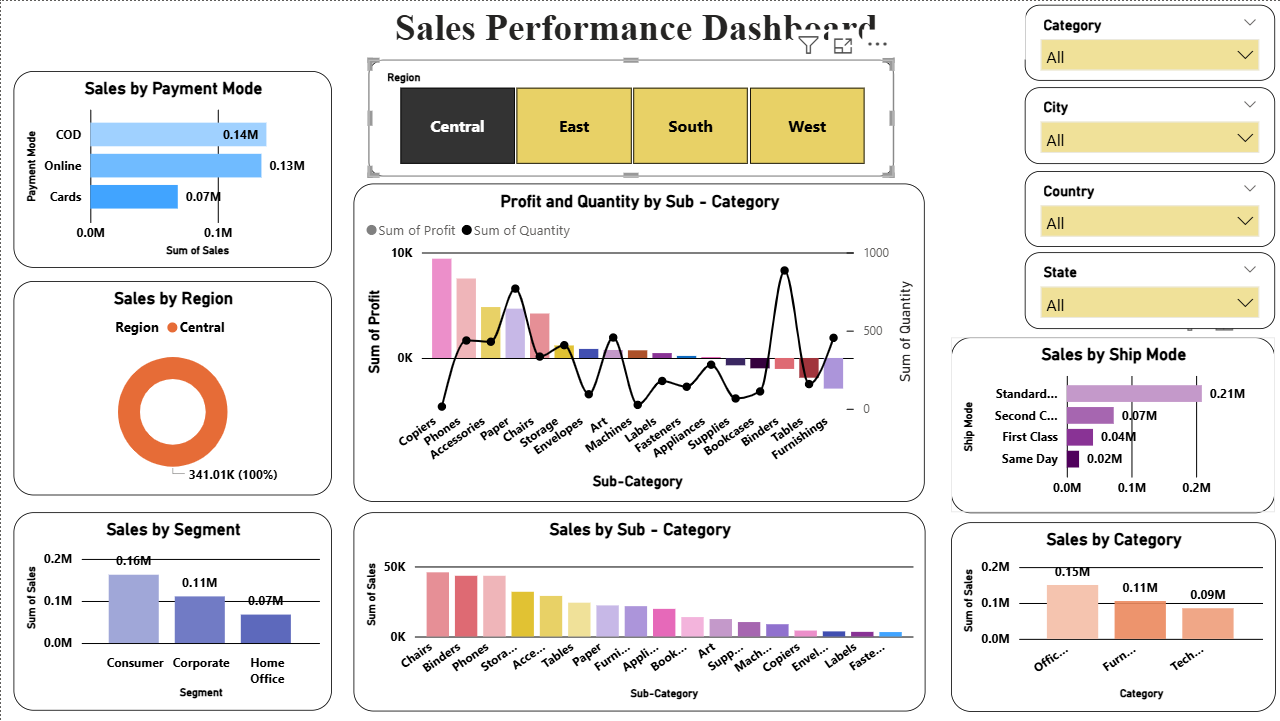

What the dashboard file says about the page in this screenshot:
{"tool":"powerbi","page":{"name":"Page 1","canvas":[1280,720],"ordinal":0},"visuals":[{"type":"barChart","title":"Sales by Payment Mode","fields":{"Y":["Sum(SuperStore_Sales_Dataset.Sales)"],"Category":["SuperStore_Sales_Dataset.Payment Mode"]},"box":[12.9,70,318.6,197.1],"z":0},{"type":"donutChart","title":"Sales by Region","fields":{"Y":["Sum(SuperStore_Sales_Dataset.Sales)"],"Category":["SuperStore_Sales_Dataset.Region"]},"box":[12.9,280,318.6,214.3],"z":1000},{"type":"columnChart","title":"Sales by Segment","fields":{"Category":["SuperStore_Sales_Dataset.Segment"],"Y":["Sum(SuperStore_Sales_Dataset.Sales)"]},"box":[12.9,511.4,318.6,198.6],"z":2000},{"type":"columnChart","title":"Sales by Category","fields":{"Category":["SuperStore_Sales_Dataset.Category"],"Y":["Sum(SuperStore_Sales_Dataset.Sales)"]},"box":[950,521.4,324.3,198.6],"z":3000},{"type":"columnChart","title":"Sales by Sub - Category","fields":{"Category":["SuperStore_Sales_Dataset.Sub-Category"],"Y":["Sum(SuperStore_Sales_Dataset.Sales)"]},"box":[352.9,511.4,571.4,208.6],"z":4000},{"type":"barChart","title":"Sales by Ship Mode","fields":{"Y":["Sum(SuperStore_Sales_Dataset.Sales)"],"Category":["SuperStore_Sales_Dataset.Ship Mode"]},"box":[950,335.7,324.3,175.7],"z":5000},{"type":"lineClusteredColumnComboChart","title":"Profit and Quantity by Sub - Category","fields":{"Category":["SuperStore_Sales_Dataset.Sub-Category"],"Y":["Sum(SuperStore_Sales_Dataset.Profit)"],"Y2":["Sum(SuperStore_Sales_Dataset.Quantity)"]},"box":[352.9,182.9,571.4,318.6],"z":6000},{"type":"slicer","fields":{"Values":["SuperStore_Sales_Dataset.Category"]},"box":[1024.3,4.3,250,75.7],"z":7000},{"type":"slicer","fields":{"Values":["SuperStore_Sales_Dataset.City"]},"box":[1024.3,85.7,250,77.1],"z":8000},{"type":"slicer","fields":{"Values":["SuperStore_Sales_Dataset.Country"]},"box":[1024.3,170,250,75.7],"z":9000},{"type":"slicer","fields":{"Values":["SuperStore_Sales_Dataset.State"]},"box":[1024.3,251.4,250,77.1],"z":10000},{"type":"slicer","fields":{"Values":["SuperStore_Sales_Dataset.Region"]},"box":[367.1,58.6,525.7,117.1],"z":11000},{"type":"textbox","box":[245.7,0,778.6,58.6],"z":12000}]}

Visuals, with their boxes in screenshot pixels (x1, y1, x2, y2), scaled from the page's 1280x720 canvas onto the 1280x721 screenshot:
"Sales by Payment Mode" barChart: Rect(13, 70, 332, 267)
"Sales by Region" donutChart: Rect(13, 280, 332, 495)
"Sales by Segment" columnChart: Rect(13, 512, 332, 711)
"Sales by Category" columnChart: Rect(950, 522, 1274, 720)
"Sales by Sub - Category" columnChart: Rect(353, 512, 924, 720)
"Sales by Ship Mode" barChart: Rect(950, 336, 1274, 512)
"Profit and Quantity by Sub - Category" lineClusteredColumnComboChart: Rect(353, 183, 924, 502)
slicer - SuperStore_Sales_Dataset.Category: Rect(1024, 4, 1274, 80)
slicer - SuperStore_Sales_Dataset.City: Rect(1024, 86, 1274, 163)
slicer - SuperStore_Sales_Dataset.Country: Rect(1024, 170, 1274, 246)
slicer - SuperStore_Sales_Dataset.State: Rect(1024, 252, 1274, 329)
slicer - SuperStore_Sales_Dataset.Region: Rect(367, 59, 893, 176)
textbox: Rect(246, 0, 1024, 59)
